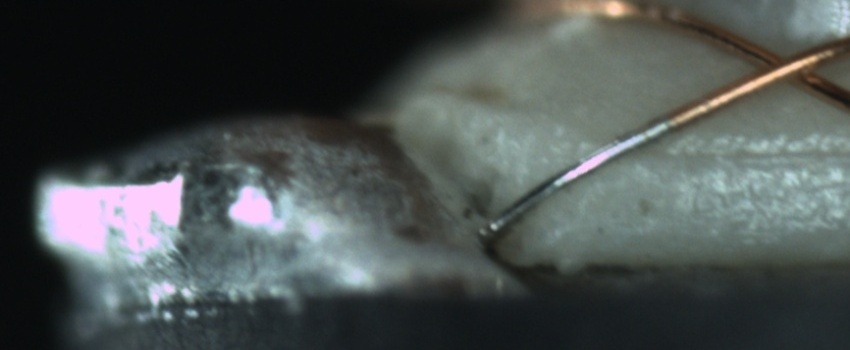CL: (730, 36, 835, 94)
DL: (638, 126, 849, 190)
TS: (489, 119, 674, 234)
